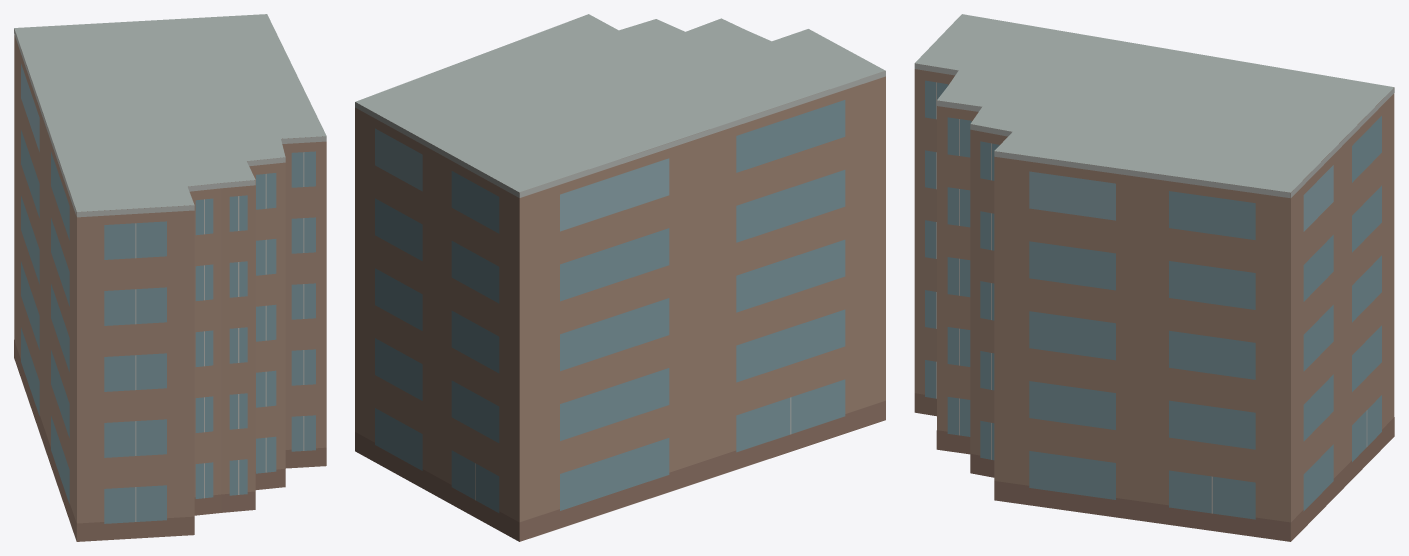
The model's file is survey-upis-32885709.glb.
3 views of the same model, side by side, from view 1: azimuth 30°, elevation 25°; view 2: azimuth 150°, elevation 25°; view 3: azimuth 270°, elevation 25° (orthographic). The views are drawn at different scales.
Visible parts, largest first — view 1: survey-upis-32885709.tmp; view 2: survey-upis-32885709.tmp; view 3: survey-upis-32885709.tmp.
Boxes of the visible parts, bbox=[...] form: survey-upis-32885709.tmp: bbox=[14, 14, 326, 541]; survey-upis-32885709.tmp: bbox=[355, 14, 885, 541]; survey-upis-32885709.tmp: bbox=[914, 14, 1394, 541].
Bounding box in the file's own units: 16.57 × 15.1 × 18.81.
